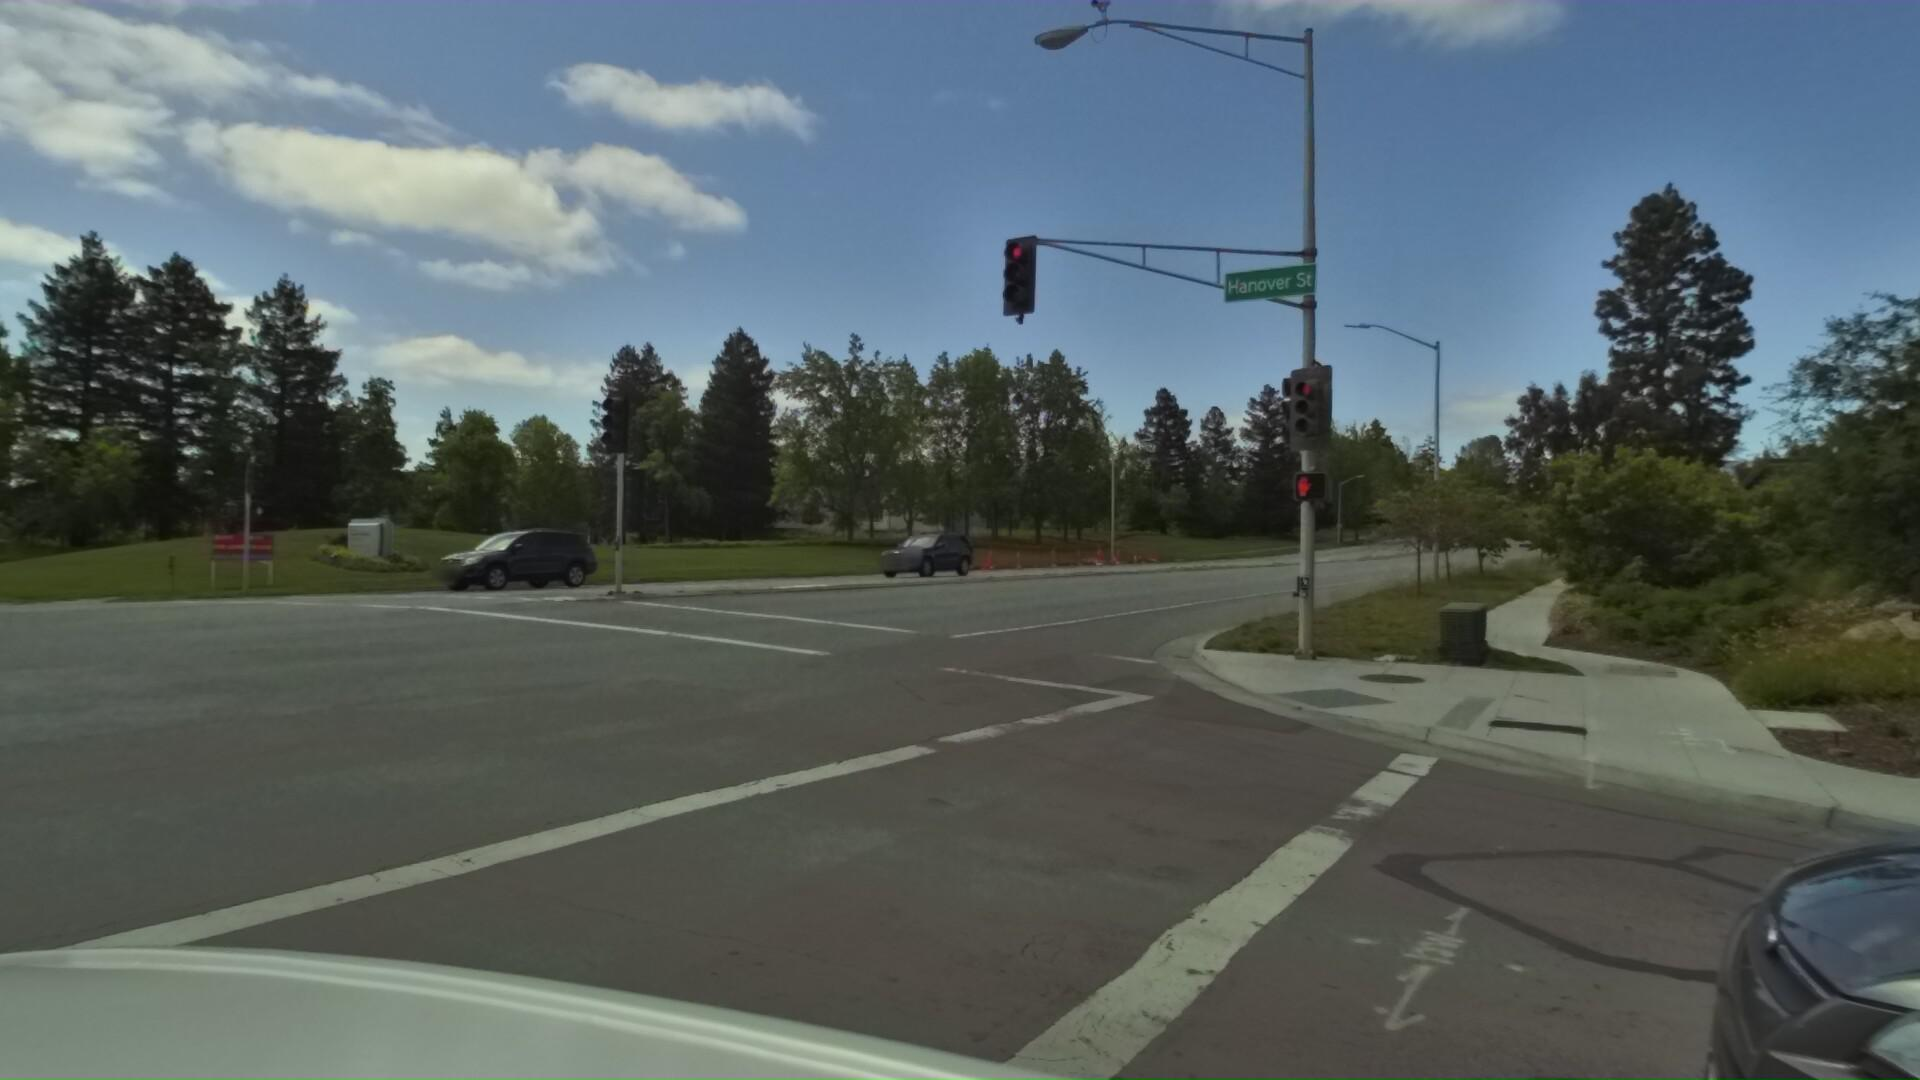car: (409, 527, 593, 593), (853, 529, 968, 572)
